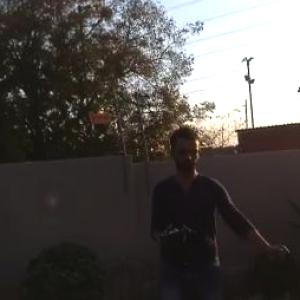follow: (139, 119, 292, 299)
